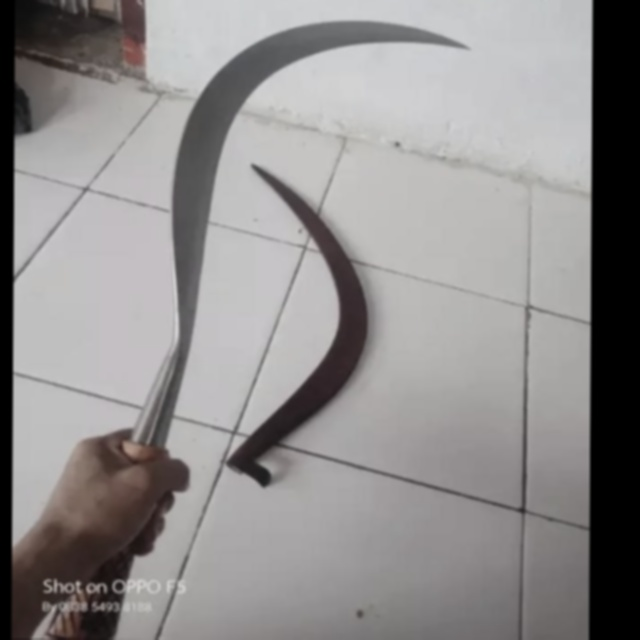Sharp-Object: (92, 0, 470, 612), (230, 146, 378, 503)
